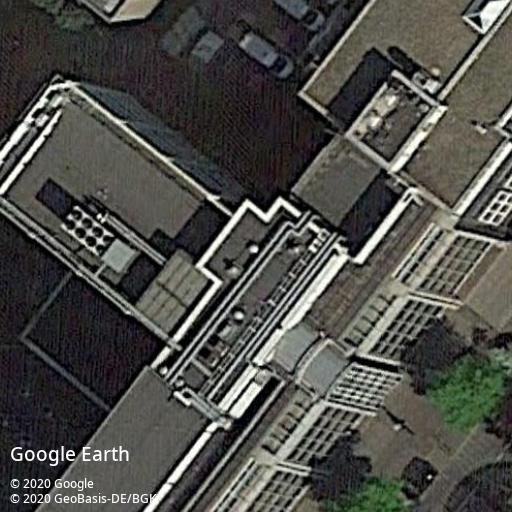Chiller: (60, 205, 117, 261)
